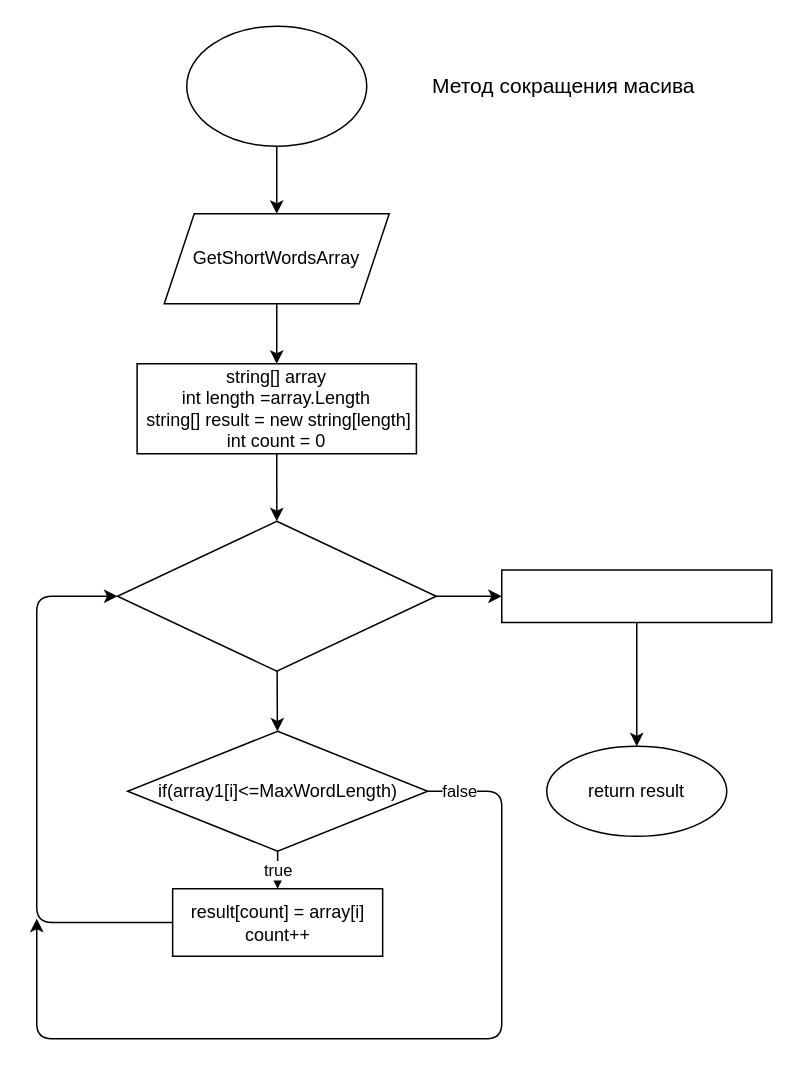
The diagram is 798 pixels wide and 1077 high, and some of its shapes have lost their labels. Here are the shapes that lost their labels. From the top down, the centre of each, then its label:
(x=276, y=85): start
(x=276, y=595): for(i = 0; i < array.Length; i++)
(x=636, y=595): Array.Resize(ref result, count)
